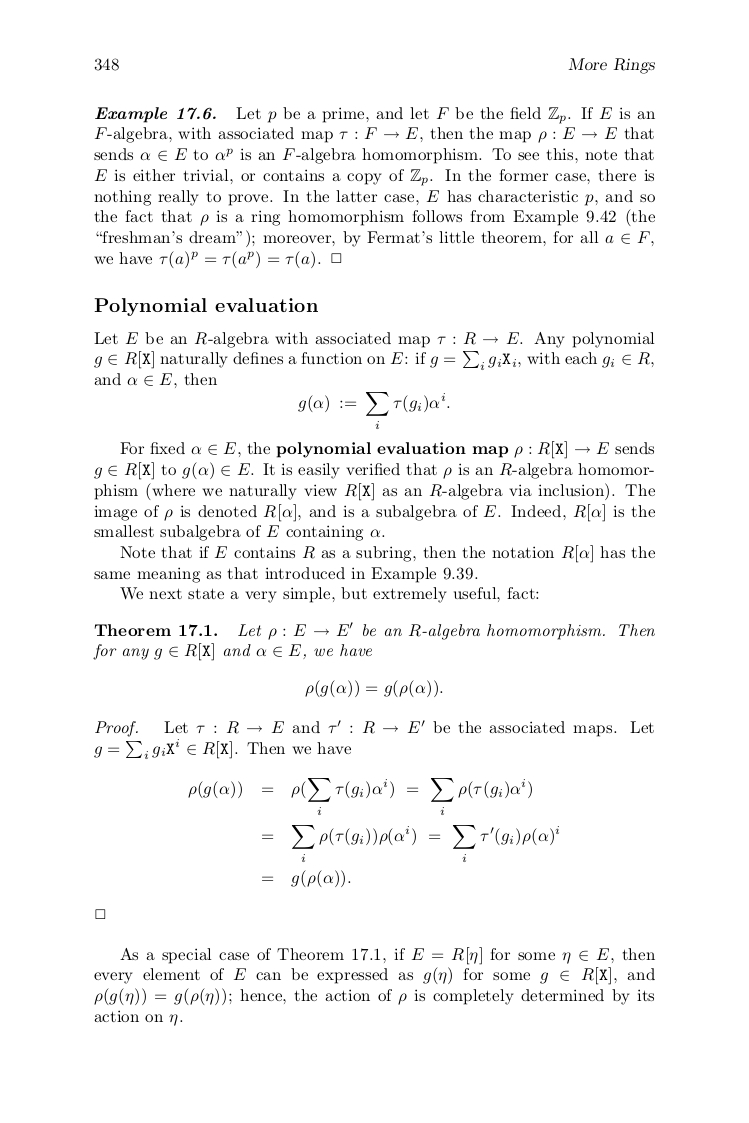formula: (188, 778, 531, 814), (262, 825, 559, 861), (298, 392, 449, 428), (305, 679, 442, 698), (262, 869, 350, 888)
